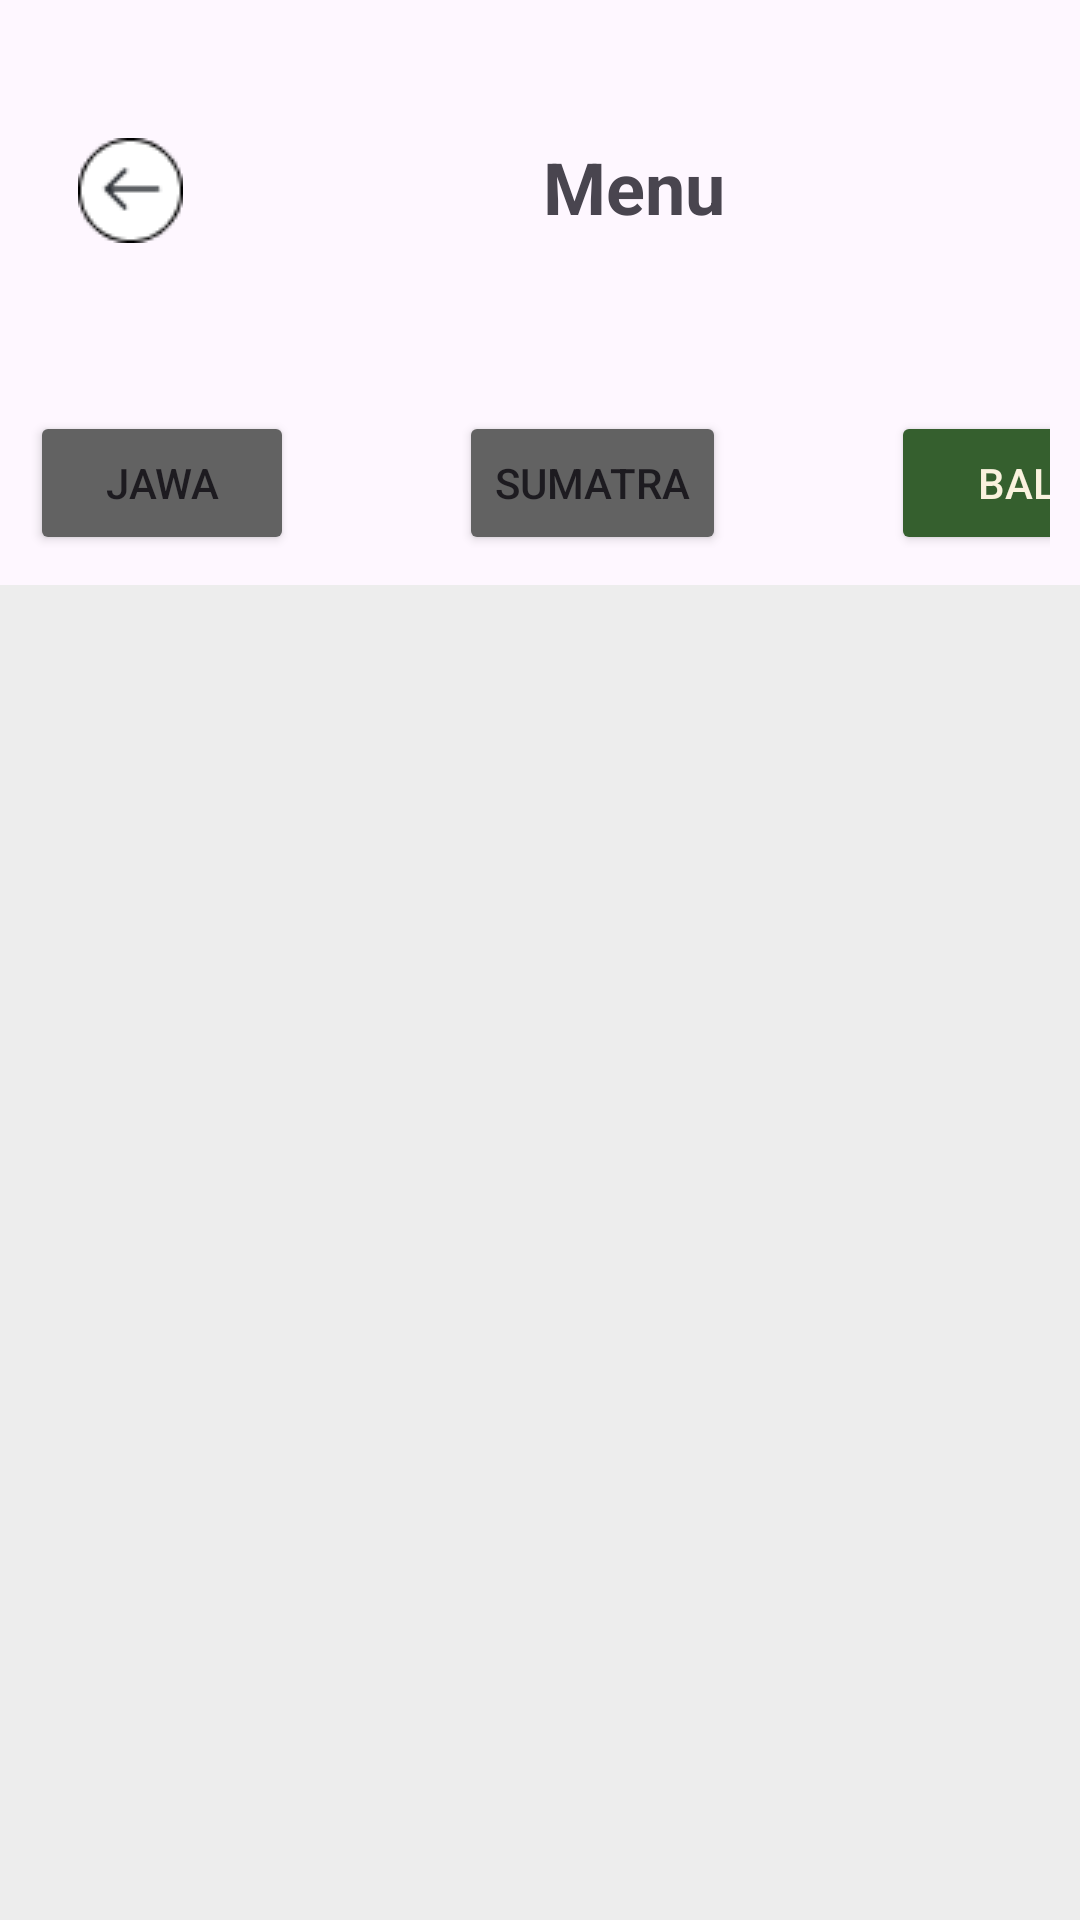

Icons on this 1080*1920 Android screen, each with the point to tap as [x,y]:
back: [130,190]
